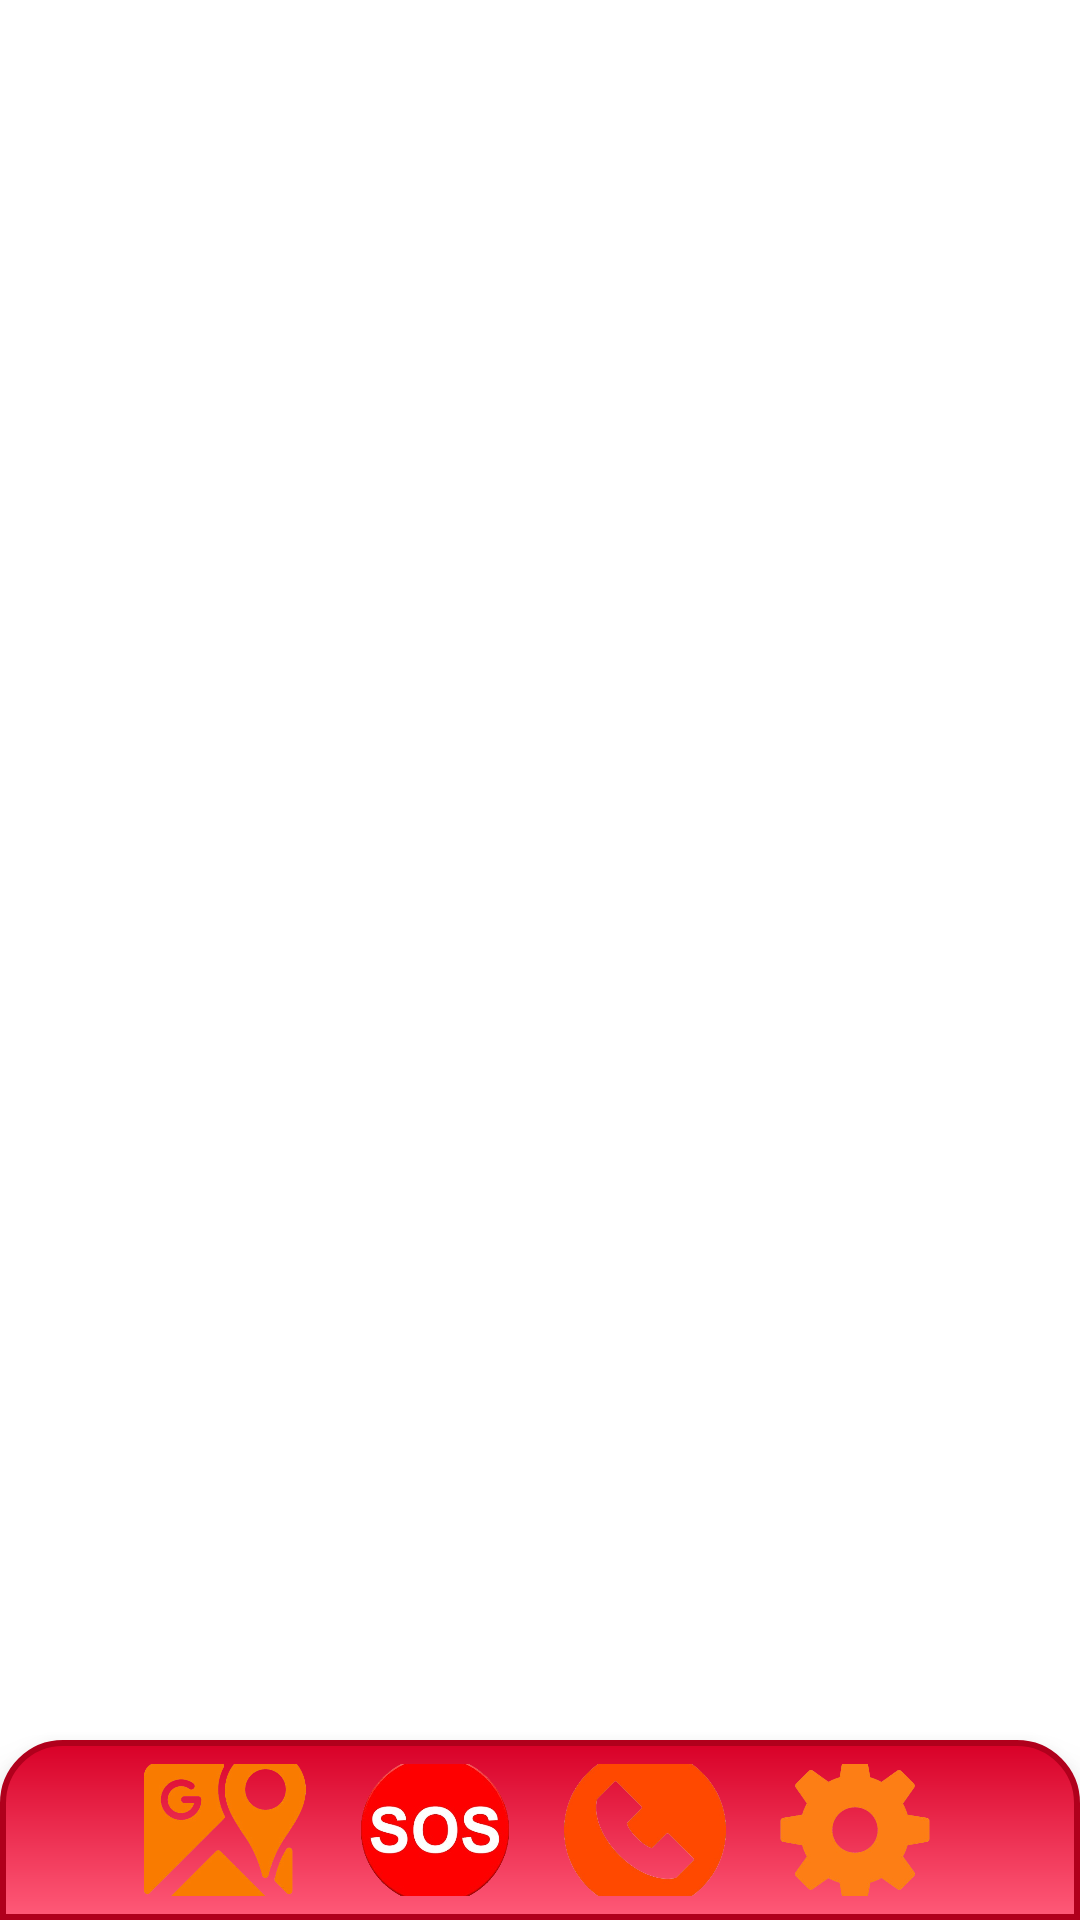

Named icons in this screenshot (1080x1920) and their centers, point (x, y):
Calls: point (645, 1830)
Settings: point (855, 1830)
